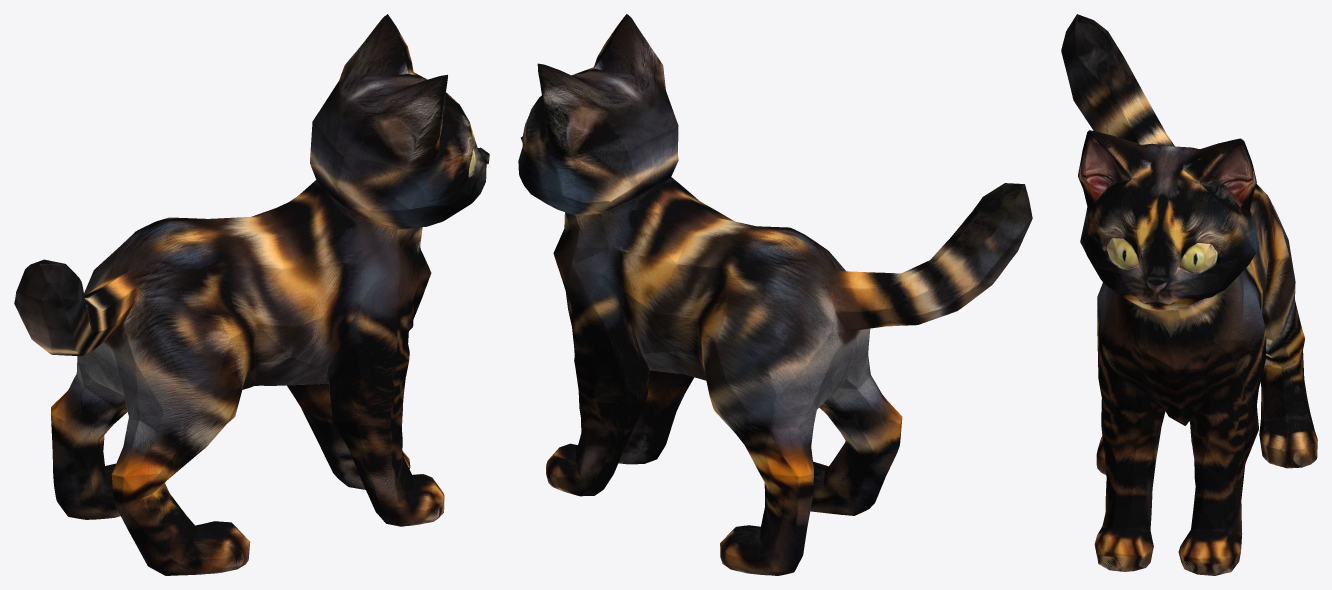
Rendered from AMBERDROP.glb.
3 renders of one model, left to right at view 1: azimuth 30°, elevation 25°; view 2: azimuth 150°, elevation 25°; view 3: azimuth 270°, elevation 25°, orthographic. The views are drawn at different scales.
Visible parts, largest first — view 1: fit; view 2: fit; view 3: fit.
Part boxes in pixels (x1,y1,x2,y2): fit: (14, 14, 489, 575); fit: (518, 14, 1032, 575); fit: (1061, 14, 1317, 575).
Bounding box in the file's own units: 1.17 × 0.9998 × 0.5302.
1 material, 1 textured.
